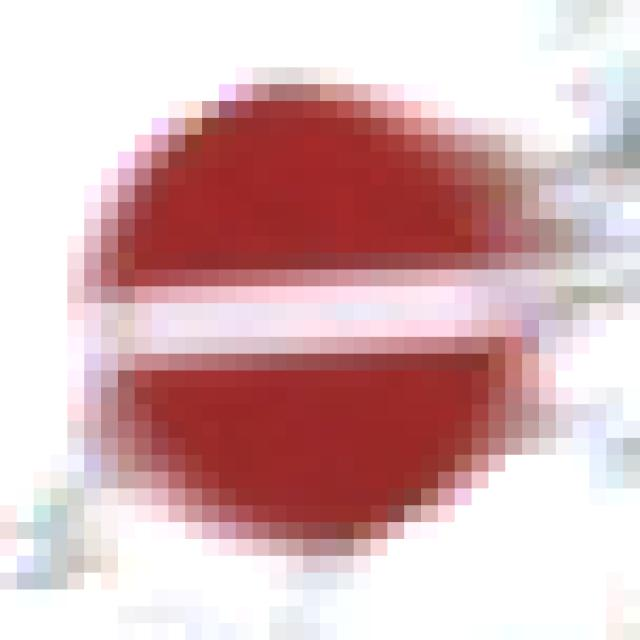No Entry: (85, 85, 557, 557)
